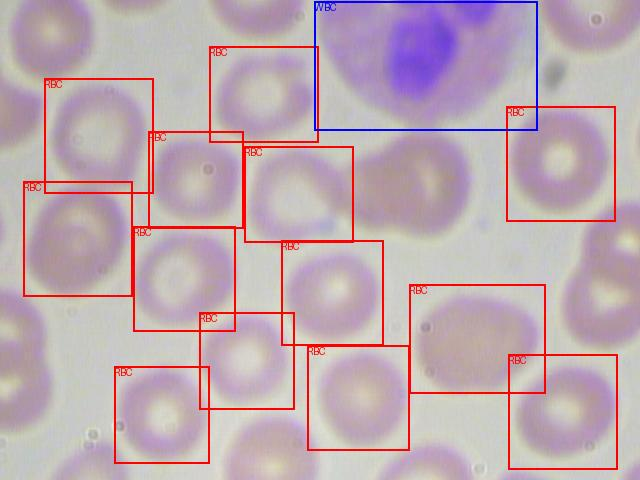RBC: (409, 284, 545, 393), (506, 106, 615, 221), (508, 354, 617, 469), (44, 78, 153, 193), (23, 181, 132, 296), (133, 226, 235, 331), (281, 240, 383, 345), (307, 345, 409, 450), (209, 46, 318, 142), (244, 146, 353, 242), (199, 312, 294, 409), (114, 366, 209, 463), (148, 131, 243, 228)
WBC: (314, 1, 537, 130)
